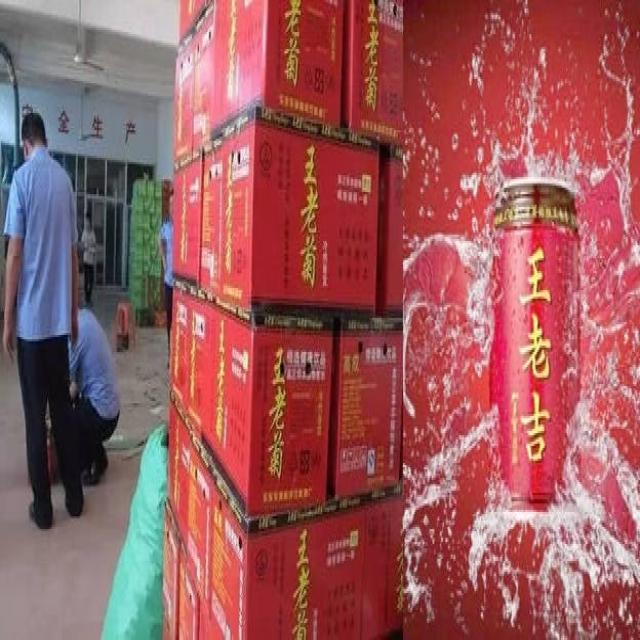box: (403, 0, 640, 640), (216, 105, 379, 316), (206, 307, 334, 535), (209, 482, 366, 640), (326, 316, 403, 501), (262, 0, 344, 128), (339, 0, 404, 145), (211, 0, 265, 143), (361, 484, 404, 640), (184, 429, 215, 619), (188, 294, 216, 467), (171, 151, 203, 299), (377, 139, 403, 316), (198, 137, 223, 309), (168, 286, 195, 425), (168, 397, 190, 565), (192, 2, 212, 162), (173, 28, 194, 173), (161, 508, 181, 640), (177, 548, 198, 640), (178, 2, 211, 49), (198, 599, 226, 640), (162, 621, 174, 640)
